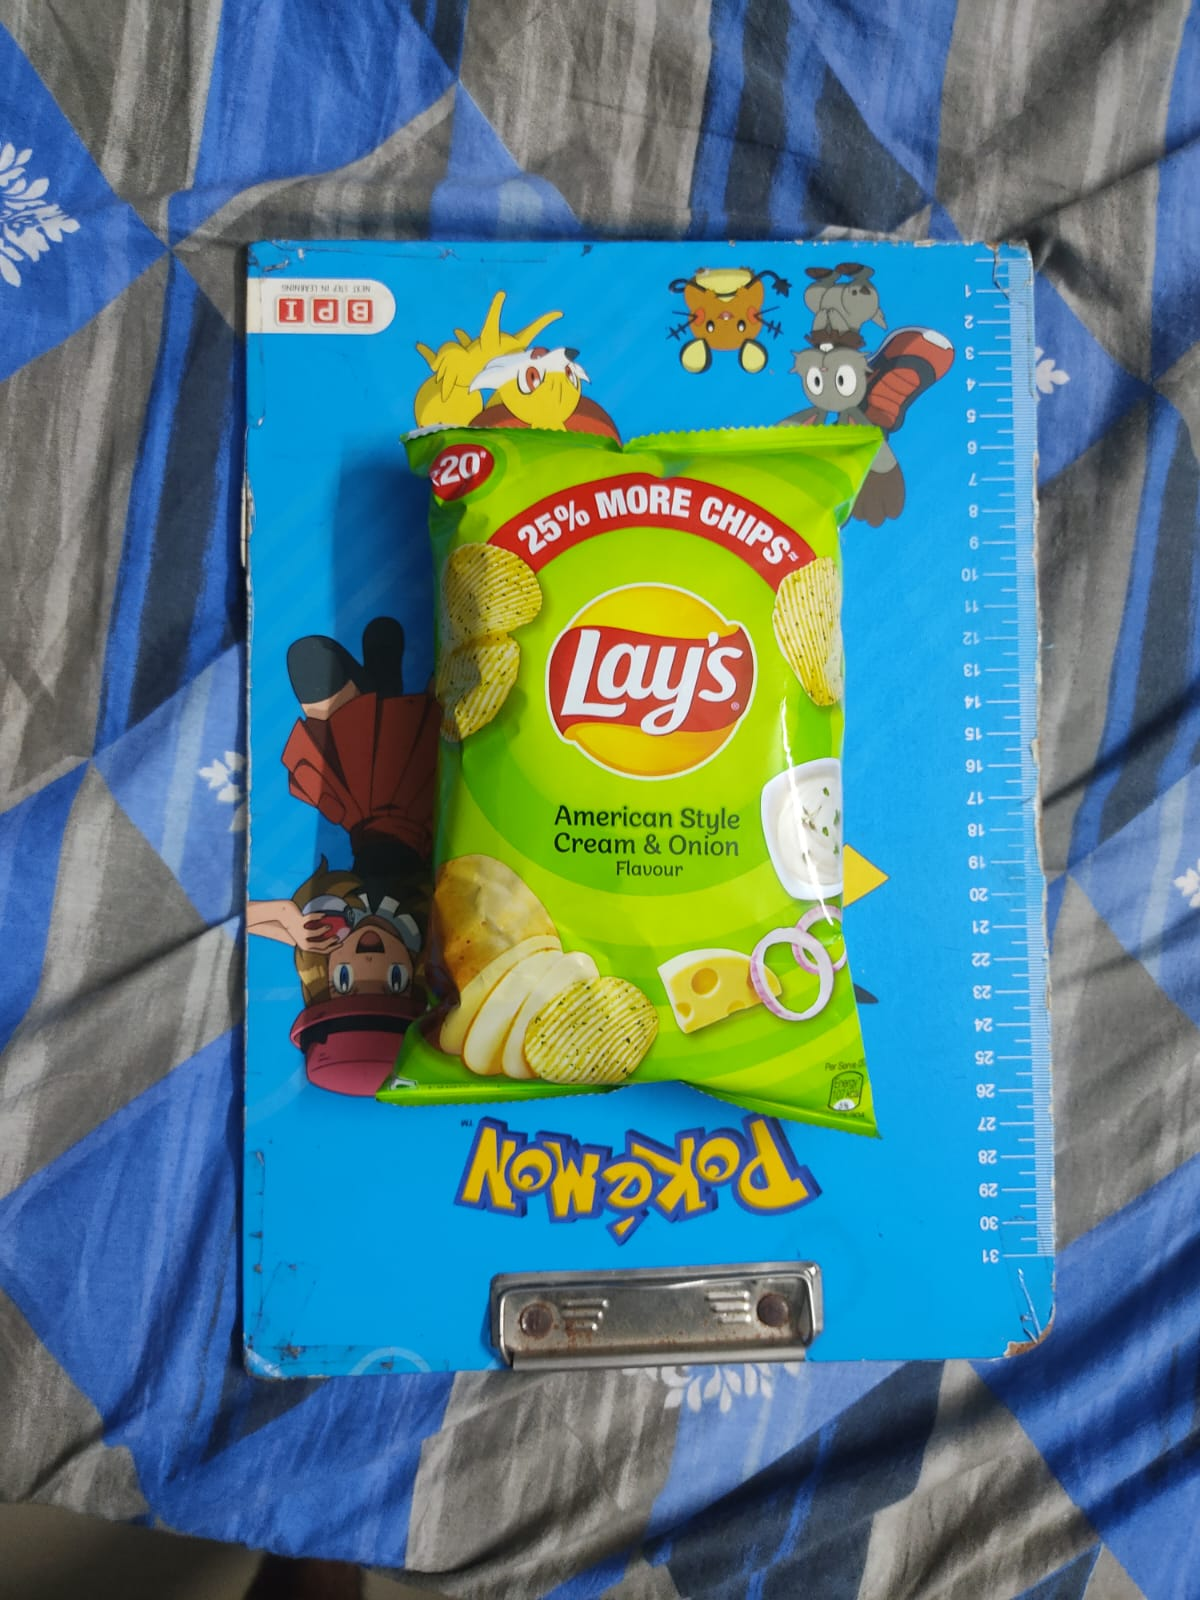020_GreenLays: (418, 433, 875, 1111)
